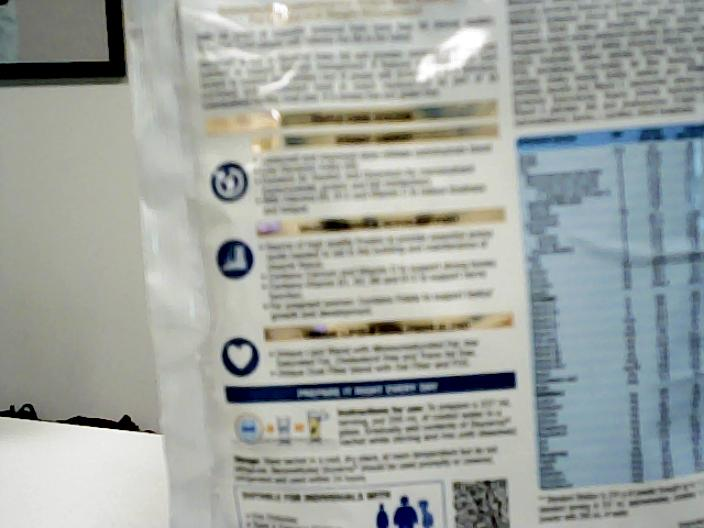Adult_Milk_0-99g_Halal_NonHealthy: (167, 1, 702, 523)
